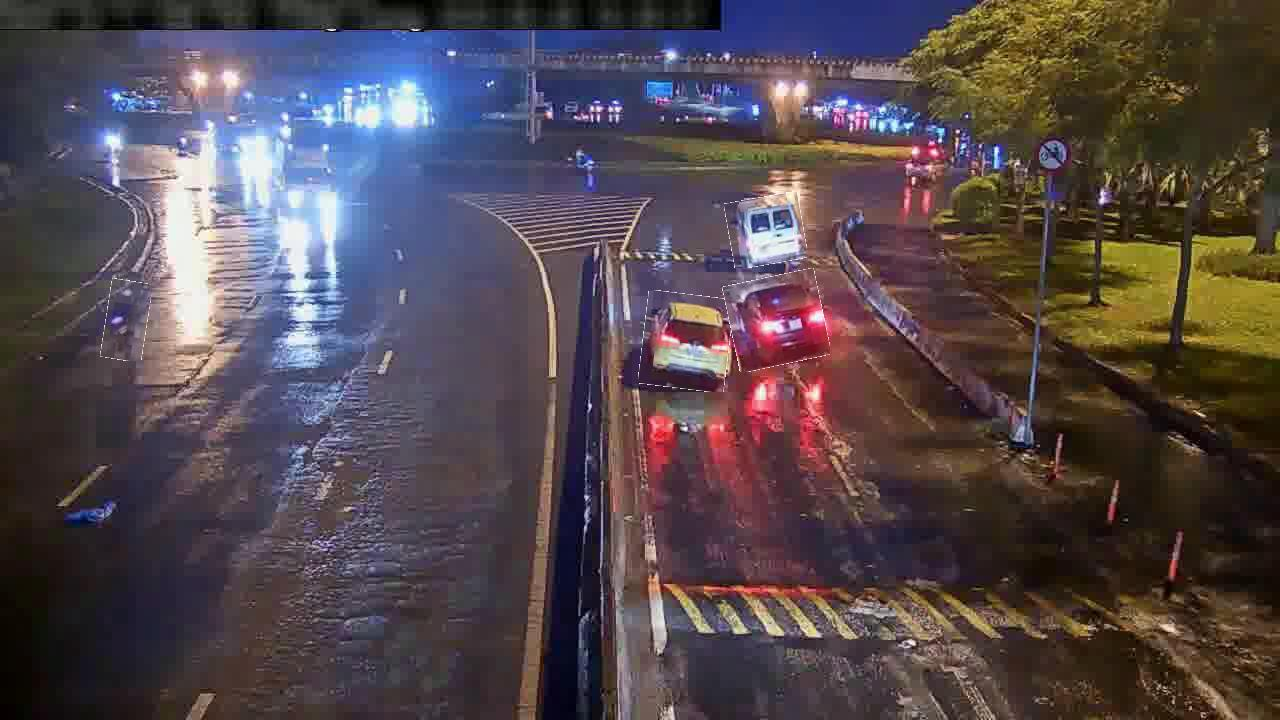14: (727, 194, 806, 267)
container: (726, 273, 827, 369), (640, 293, 732, 391)
motorbike: (103, 280, 150, 361)
